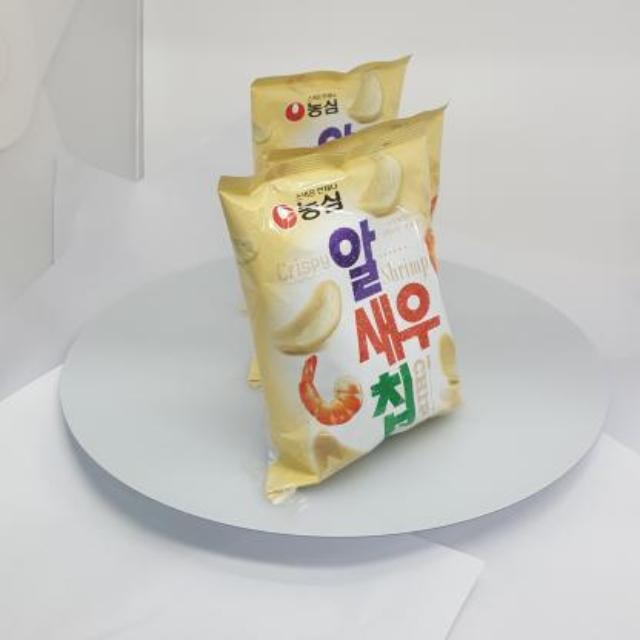snack_bag: (204, 50, 494, 522)
